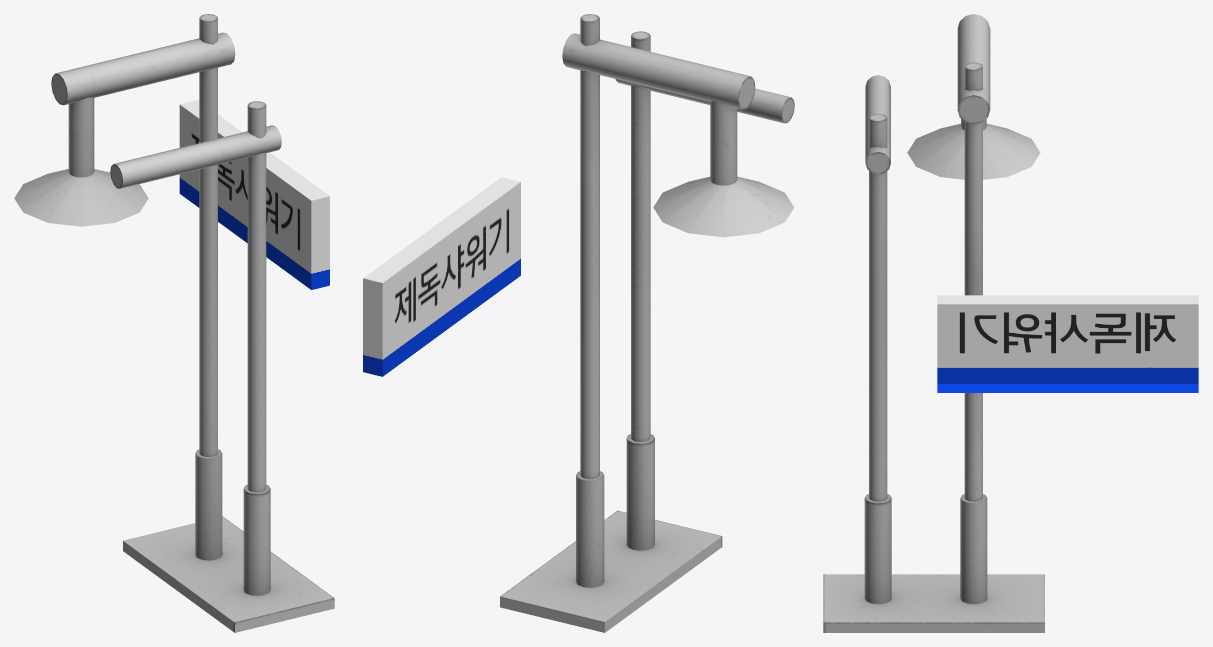
3 views of the same model, side by side, from view 1: azimuth 30°, elevation 25°; view 2: azimuth 150°, elevation 25°; view 3: azimuth 270°, elevation 25° (orthographic). The views are drawn at different scales.
Parts seen in each view (by area): view 1: Sh, Pan; view 2: Sh, Pan; view 3: Sh, Pan.
Part boxes in pixels (left/top/right/bottom): Sh: left=14, top=14, right=334, bottom=632; Pan: left=179, top=100, right=329, bottom=289; Sh: left=500, top=14, right=794, bottom=632; Pan: left=363, top=177, right=520, bottom=376; Sh: left=823, top=14, right=1044, bottom=632; Pan: left=937, top=295, right=1198, bottom=392.
Size of the model in its own units: 1.64 by 2.97 by 1.86.
Materials: 2 (2 with a texture image).
